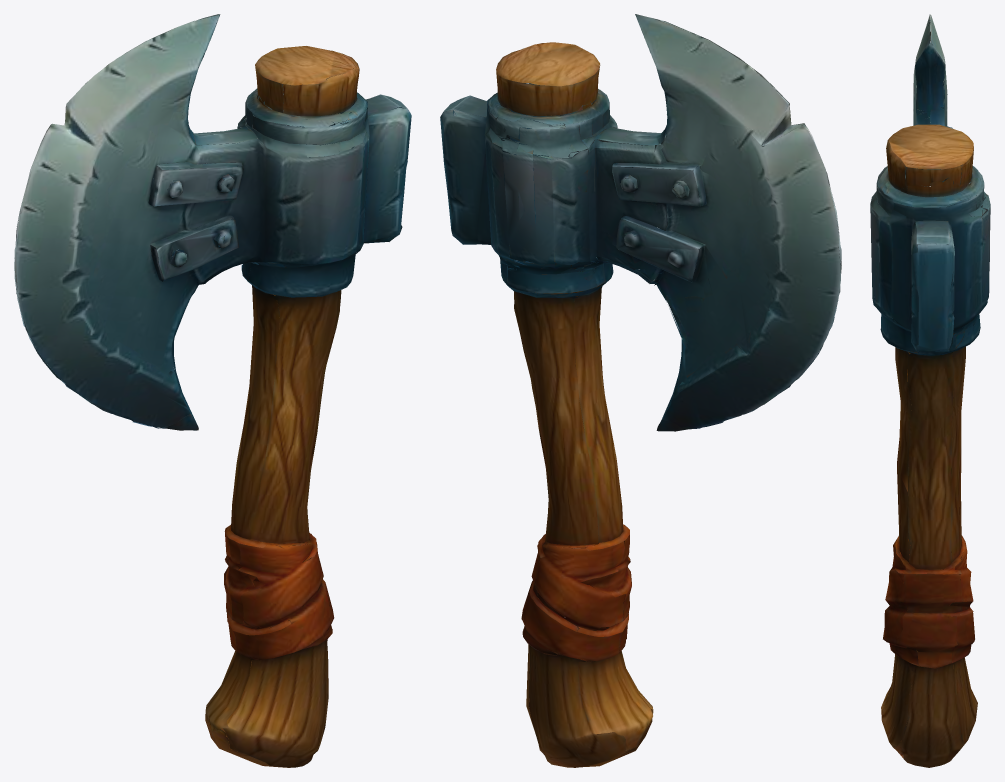
Rendered from skeleton-axe.glb.
The picture shows the model from 3 angles, left to right: view 1: azimuth 30°, elevation 25°; view 2: azimuth 150°, elevation 25°; view 3: azimuth 270°, elevation 25°; orthographic projection. The views are drawn at different scales.
Visible parts, largest first — view 1: material; view 2: material; view 3: material.
Part boxes in pixels (left/top/right/bottom): material: left=14, top=14, right=411, bottom=767; material: left=440, top=14, right=841, bottom=767; material: left=870, top=14, right=990, bottom=767.
Bounding box in the file's own units: 0.6281 × 1.17 × 0.1845.
1 material, 1 textured.
